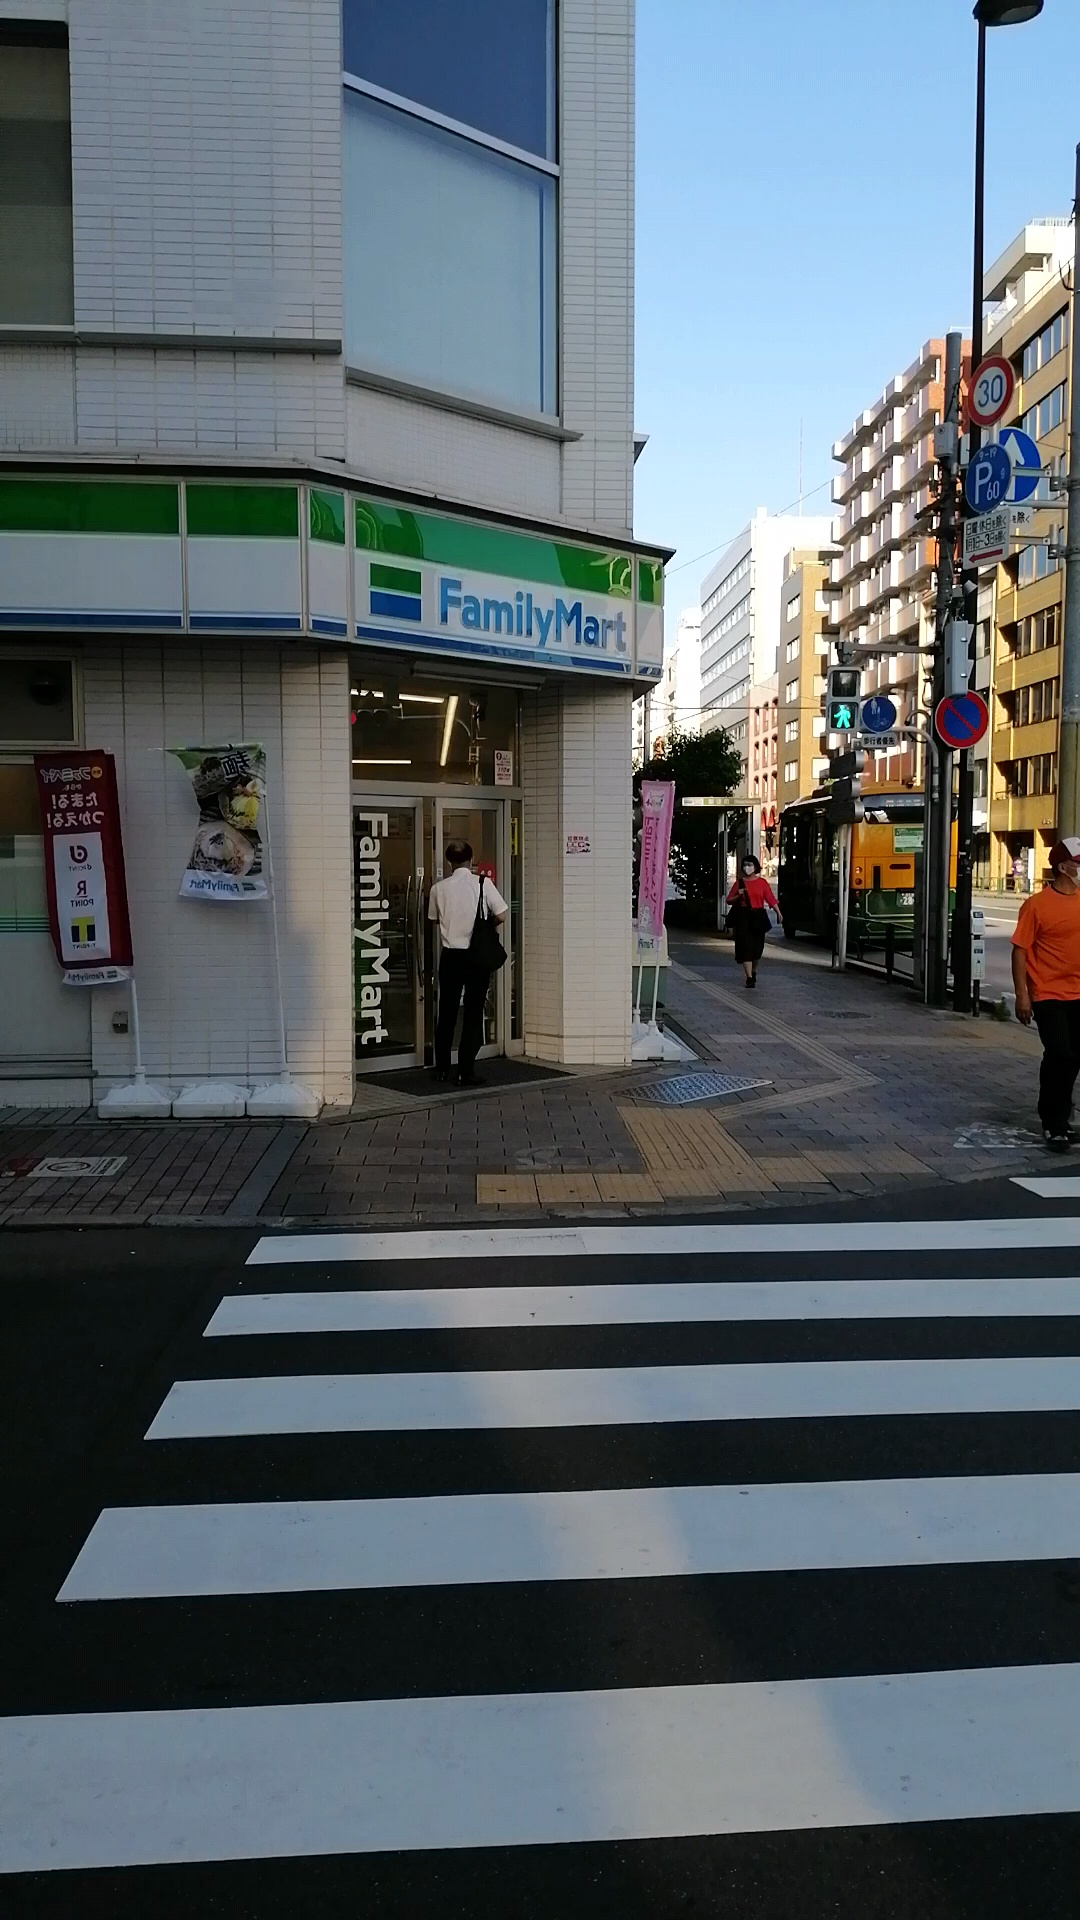green: (825, 666, 862, 738)
